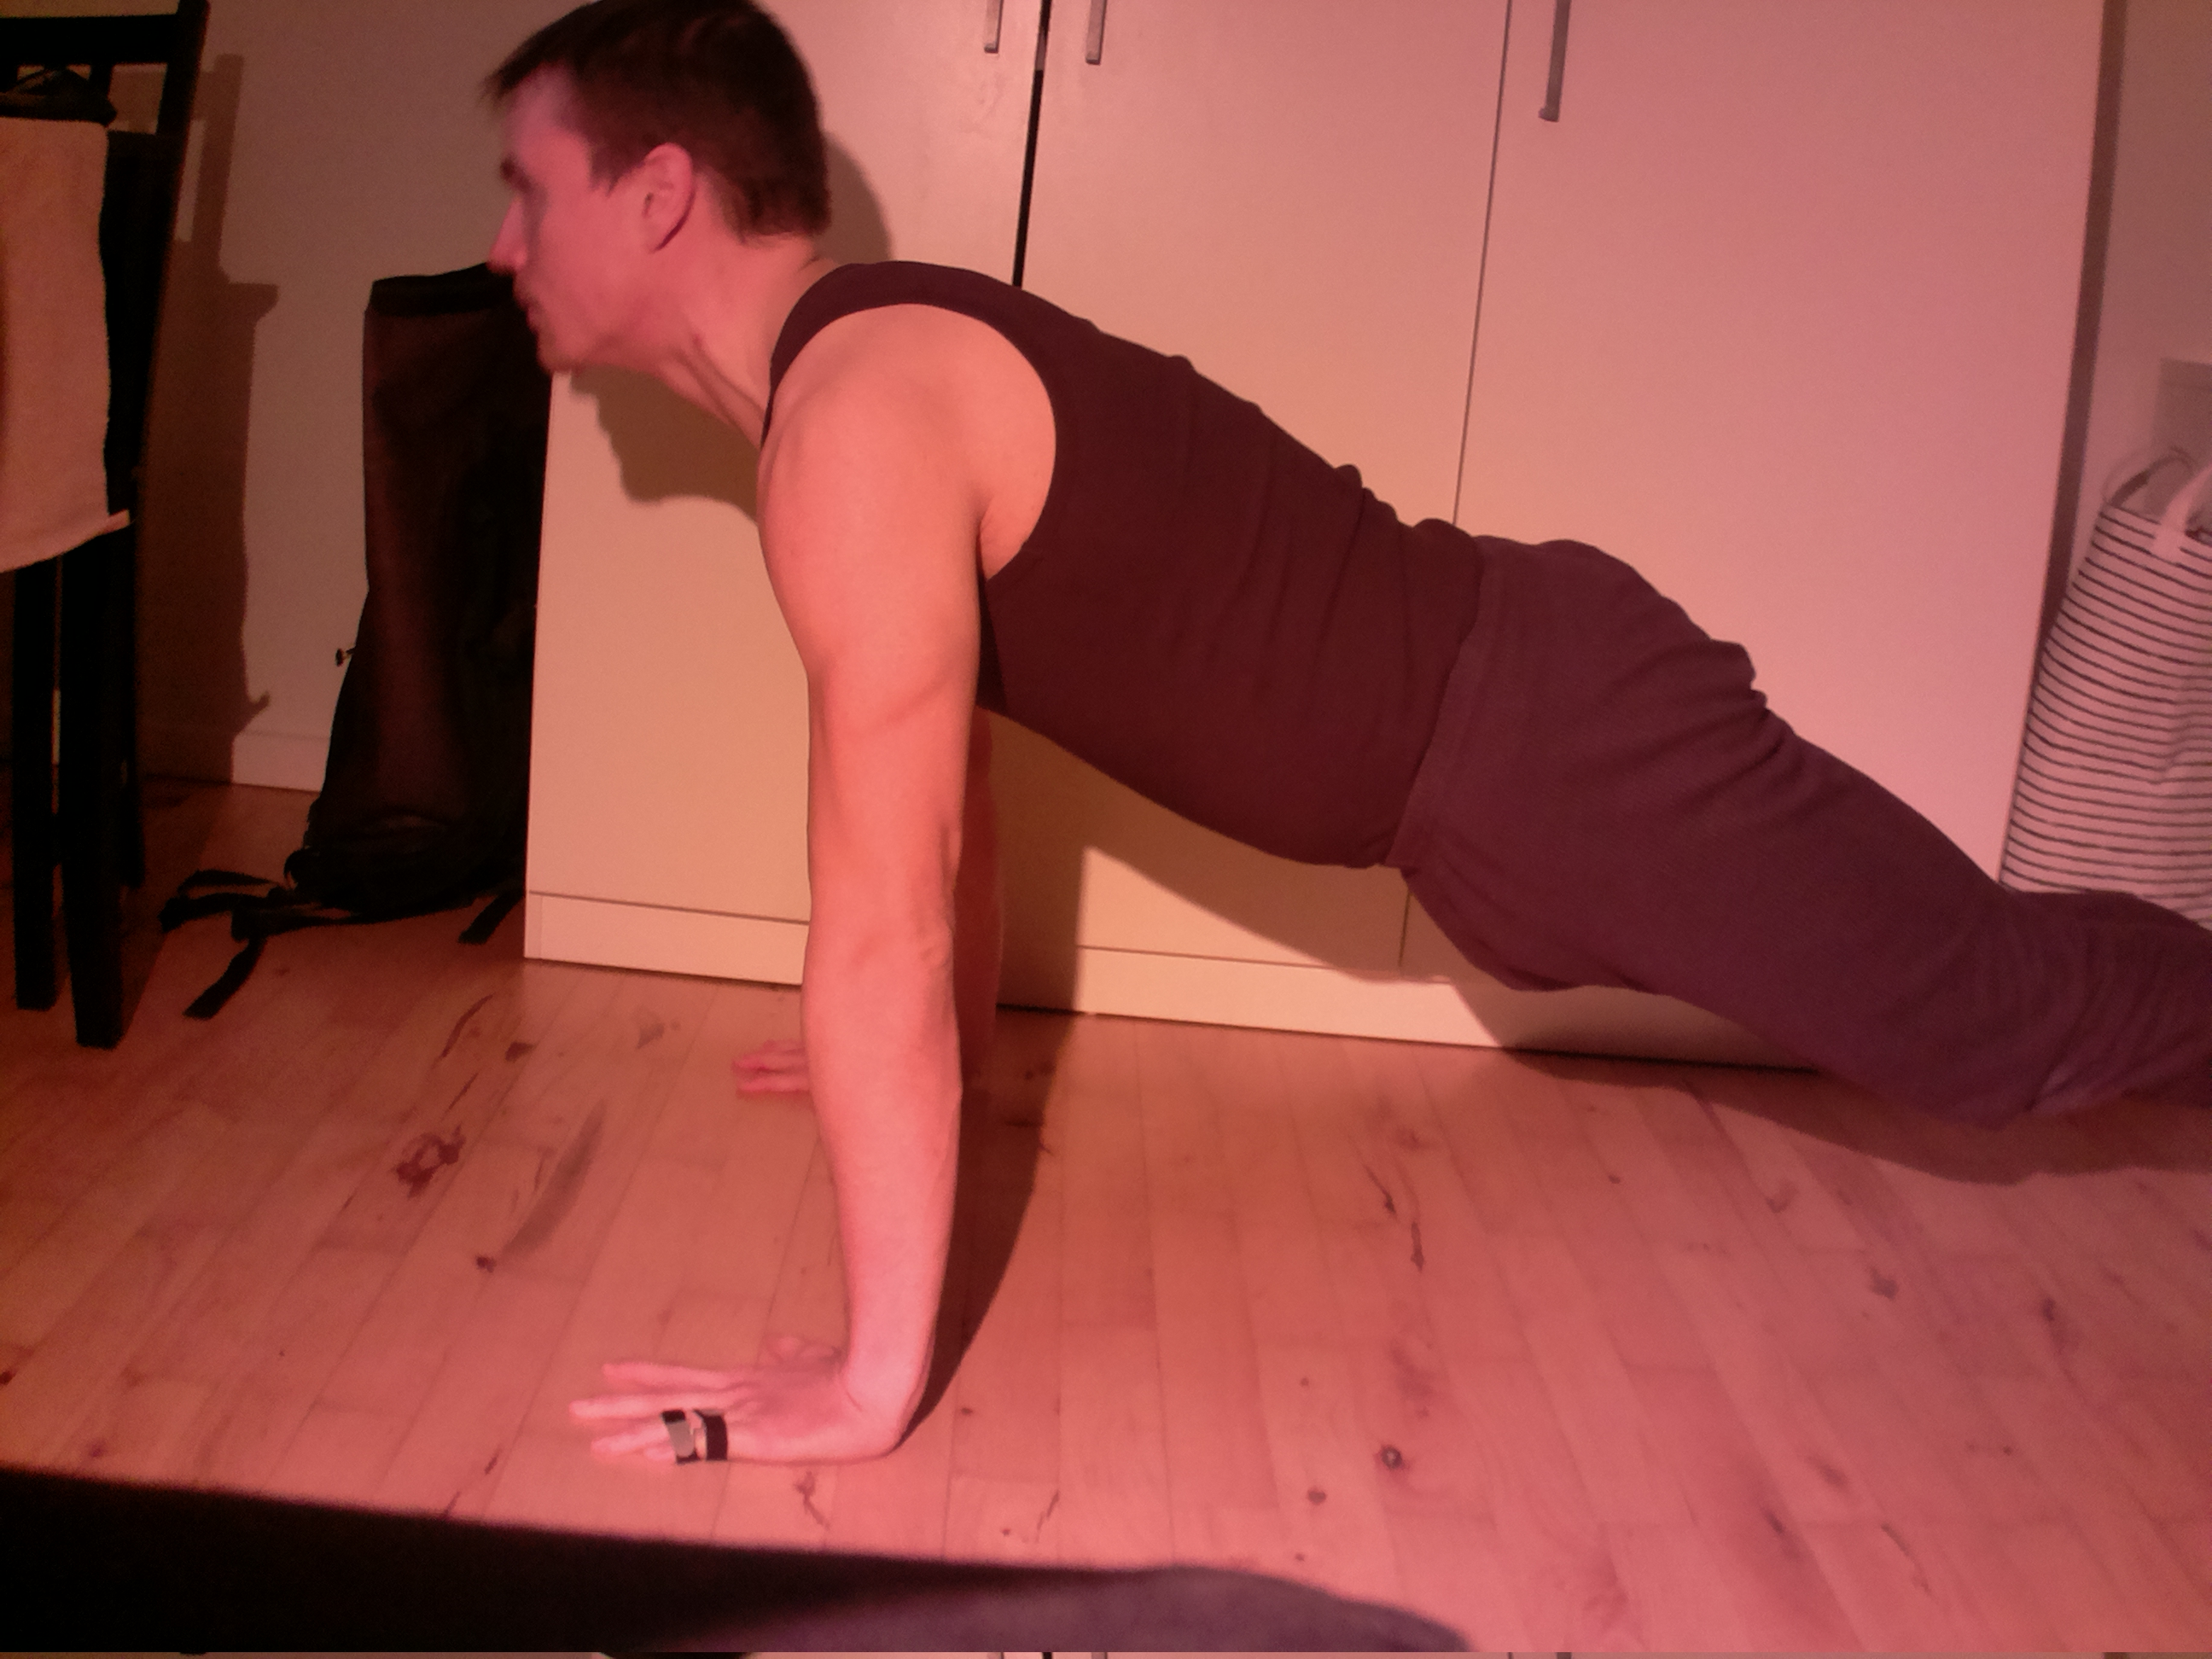CONAN: (453, 3, 1618, 1495)
